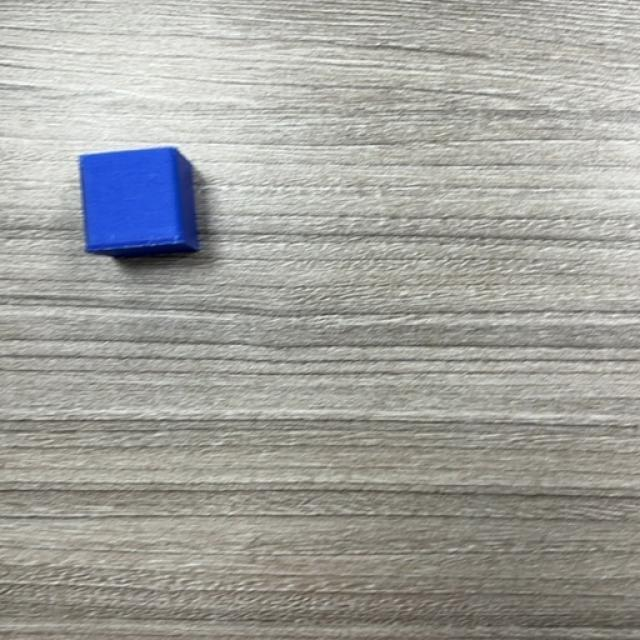Azul: (79, 148, 201, 259)
